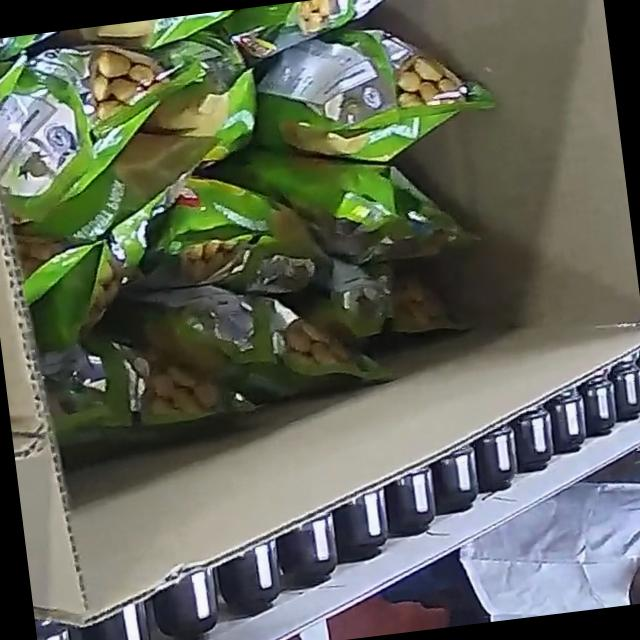yogurt: (0, 0, 532, 447)
